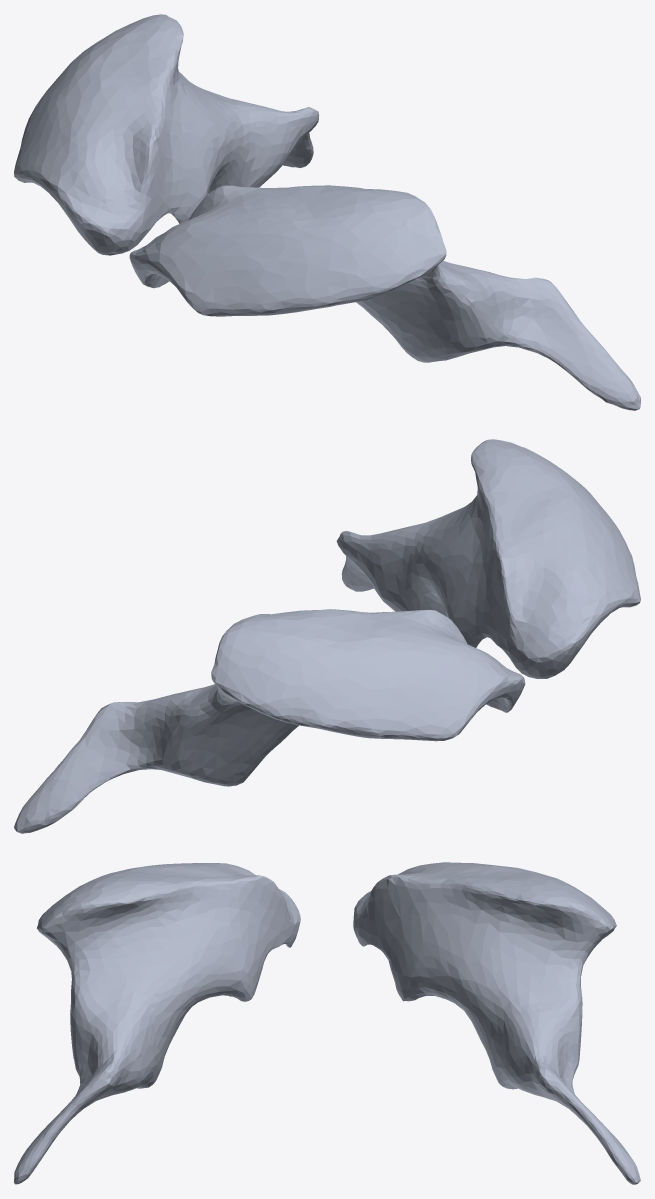
3 views of the same model, one above another, from view 1: azimuth 30°, elevation 25°; view 2: azimuth 150°, elevation 25°; view 3: azimuth 270°, elevation 25° (orthographic). The views are drawn at different scales.
Visible parts, largest first — view 1: 342.obj; view 2: 342.obj; view 3: 342.obj.
Part boxes in pixels (left/top/right/bottom): 342.obj: left=14, top=14, right=640, bottom=410; 342.obj: left=14, top=439, right=640, bottom=833; 342.obj: left=14, top=862, right=640, bottom=1184.
Size of the model in its own units: 3422 by 1957 by 5368.
